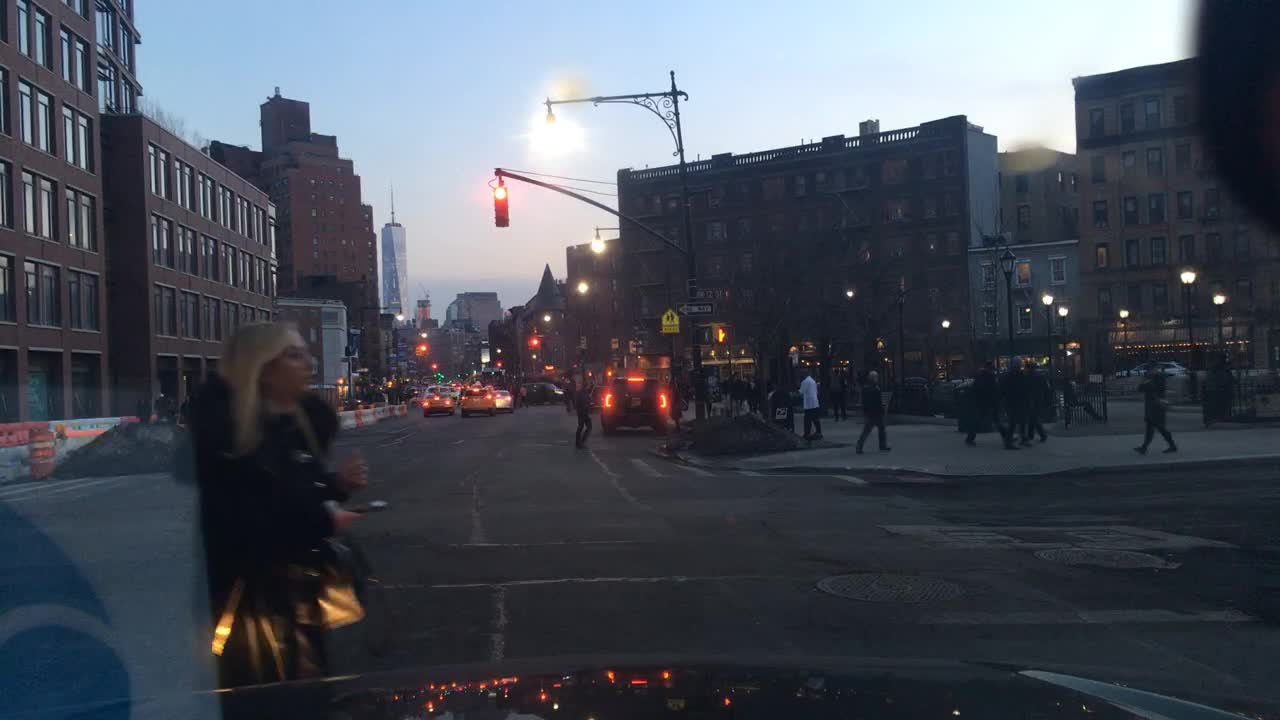car: (602, 366, 667, 434), (515, 378, 562, 408), (460, 380, 495, 415), (1115, 360, 1184, 376), (420, 388, 450, 415), (495, 390, 515, 411), (422, 387, 453, 399), (408, 388, 424, 404)
person: (181, 324, 390, 708), (959, 364, 1015, 451), (1132, 357, 1177, 457), (852, 366, 892, 457), (994, 360, 1023, 448), (1022, 360, 1050, 443), (1058, 374, 1100, 422), (564, 380, 593, 448), (800, 369, 824, 434), (691, 364, 712, 411), (831, 367, 847, 422), (723, 364, 740, 415), (747, 373, 763, 415), (130, 394, 151, 425), (154, 388, 170, 422), (516, 387, 527, 408)
traffic light: (490, 186, 508, 226), (714, 325, 728, 345), (530, 334, 539, 353), (700, 326, 709, 342), (420, 343, 427, 357)
traffic sign: (658, 310, 679, 338), (691, 283, 733, 297), (341, 345, 359, 362), (681, 304, 712, 313)
